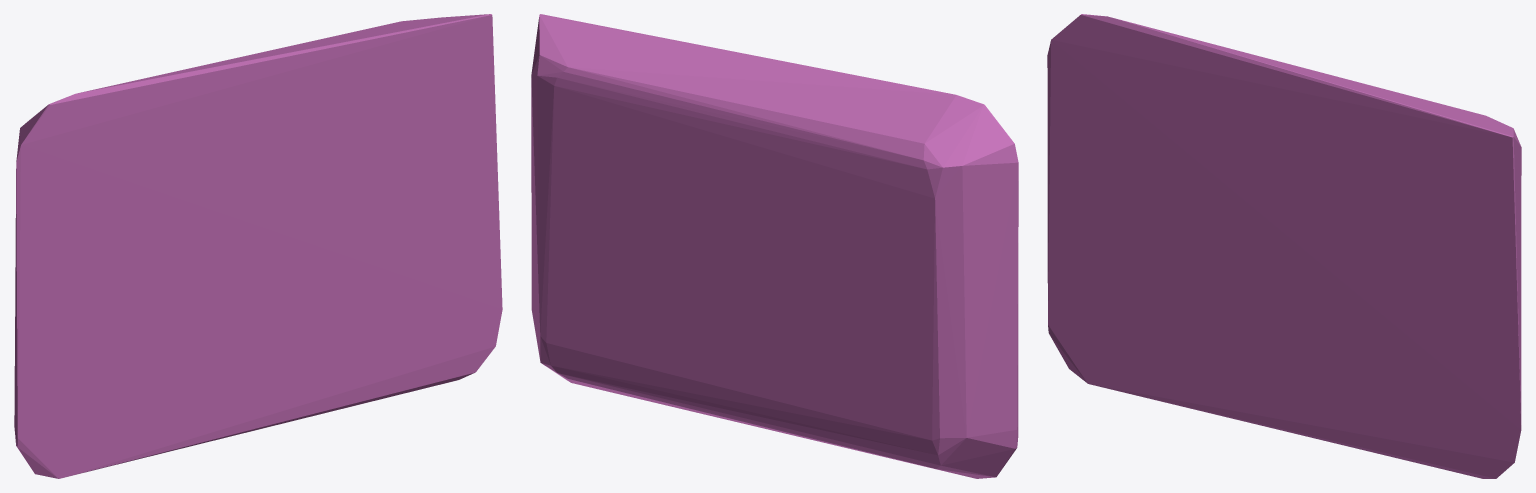
The model's file is container_system_sterilising_b06.glb.
3 views of the same model, side by side, from view 1: azimuth 30°, elevation 25°; view 2: azimuth 150°, elevation 25°; view 3: azimuth 330°, elevation 25° (orthographic). The views are drawn at different scales.
Visible parts, largest first — view 1: geometry_0; view 2: geometry_0; view 3: geometry_0.
Part boxes in pixels (x1,y1,x2,y2): geometry_0: [14, 14, 502, 478]; geometry_0: [531, 14, 1018, 478]; geometry_0: [1047, 14, 1521, 478].
Size of the model in its own units: 0.4787 by 0.358 by 0.0598.
